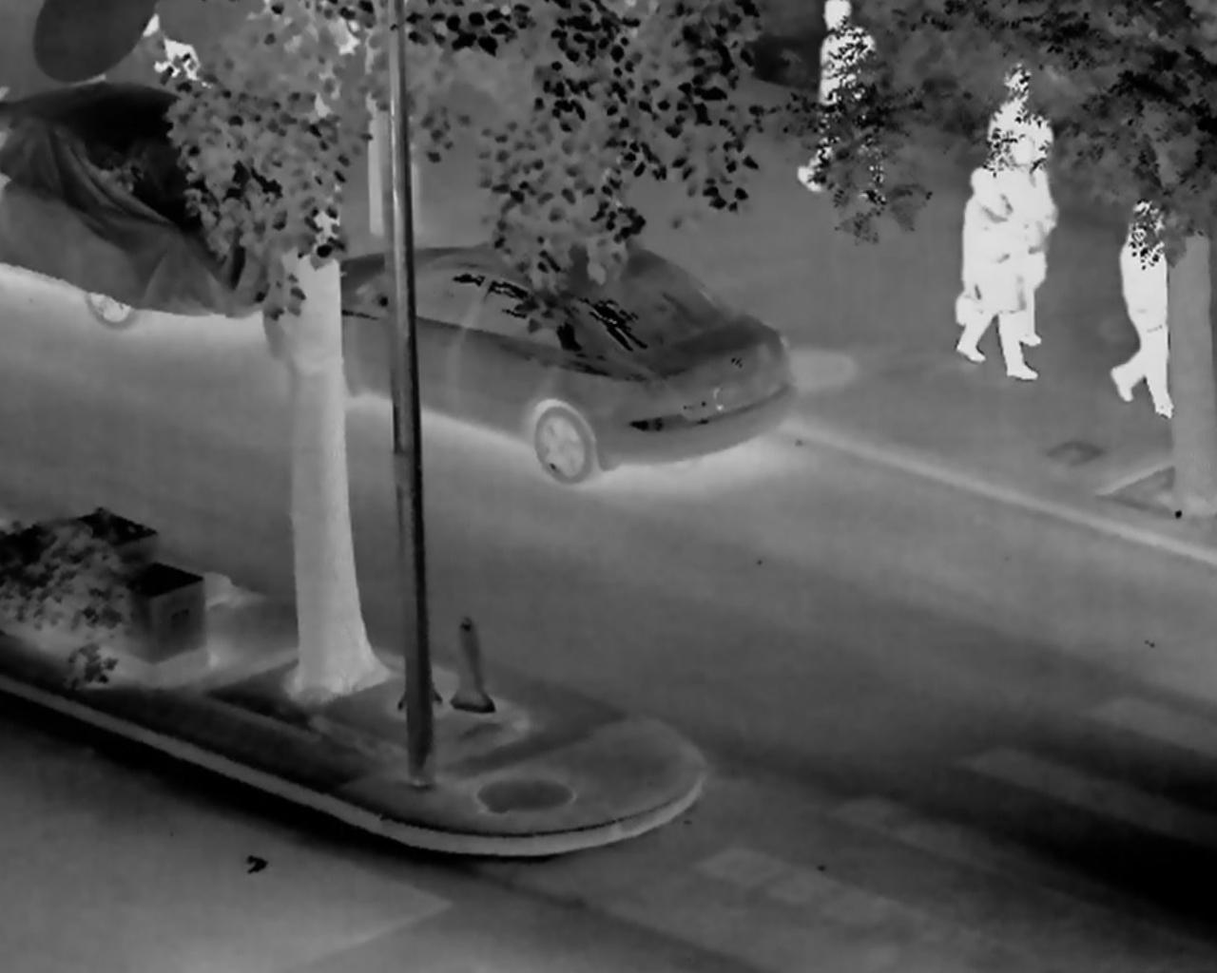person: (953, 161, 1037, 384), (1111, 199, 1179, 420), (989, 134, 1056, 344), (987, 60, 1055, 237)
